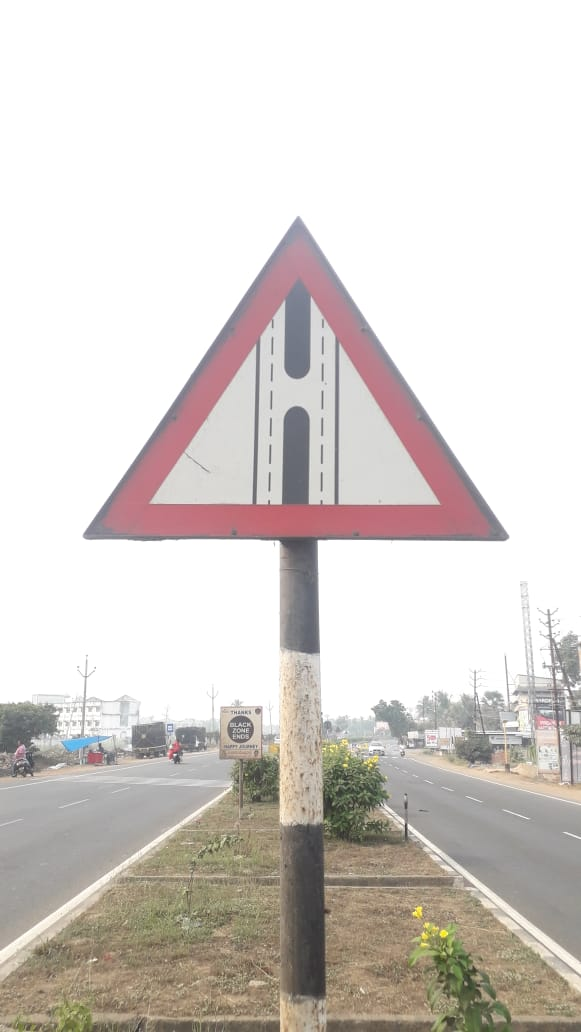highway go straight: (67, 190, 550, 561)
